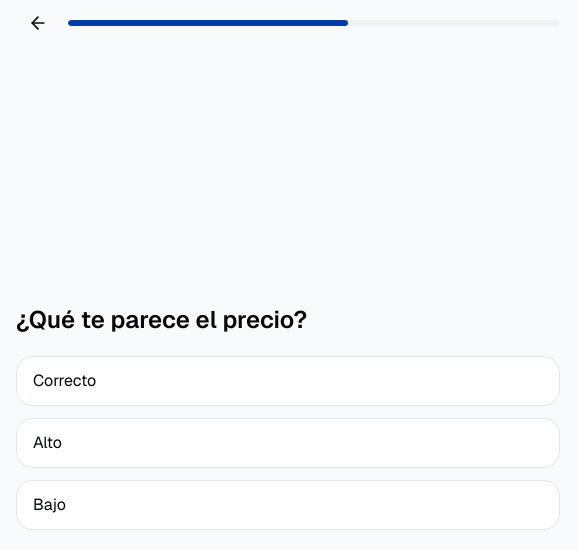
Test: EncuestaVisita (criterios 20, 21, 22) › sin precio publicado pregunta en general y no ofrece atajos
Expected: the heading "¿Qué te parece el precio?" is shown, [16,304,307,334]
Click the radio button labelled "Correcto".
click(65, 380)  # box [16,356,560,406]
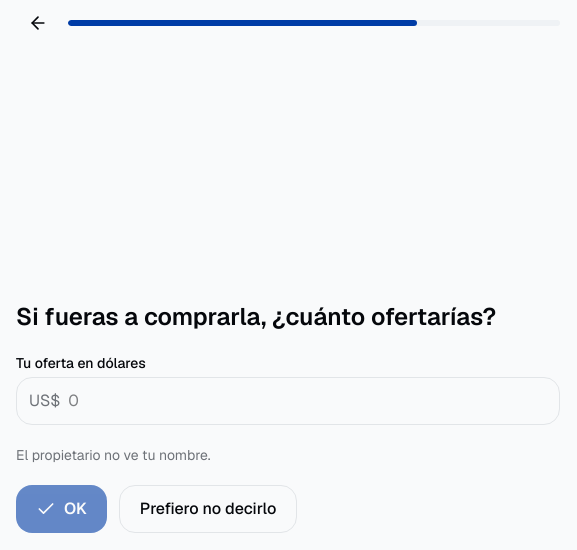
Result: the heading "Si fueras a comprarla, ¿cuánto ofertarías?" is shown at [16,300,560,332]
